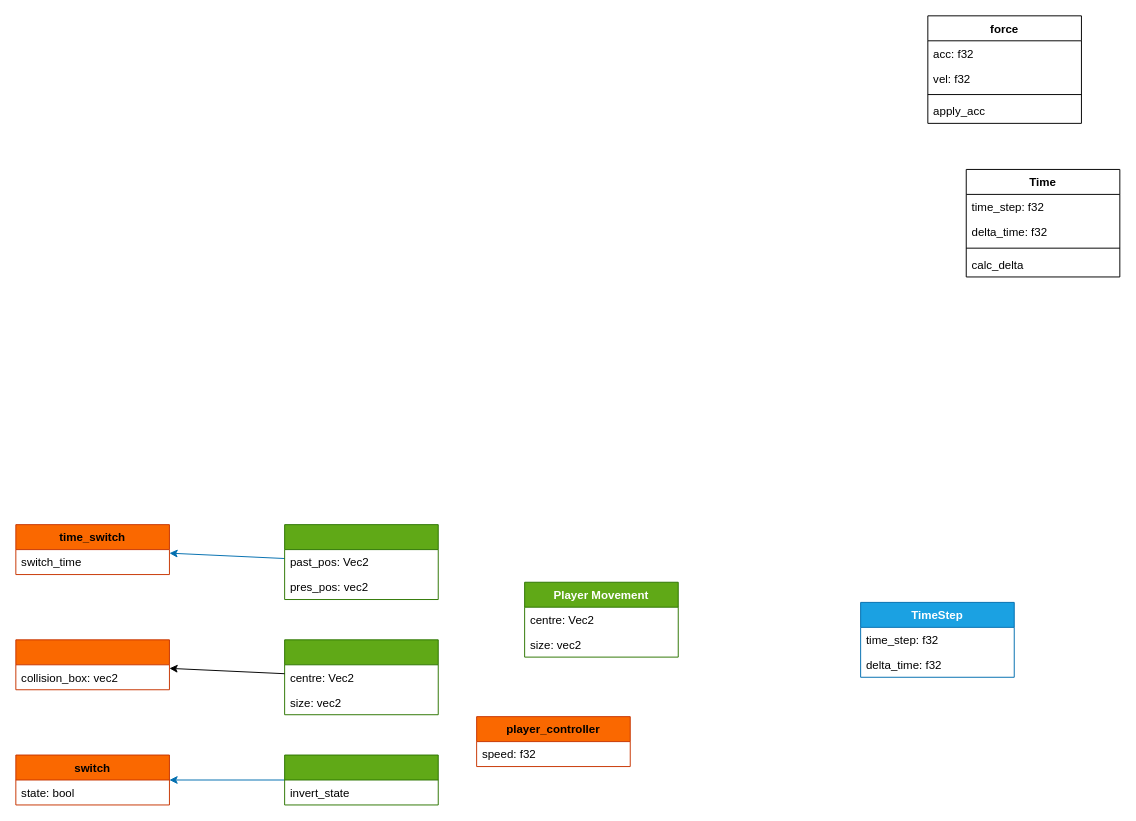
Image size: 1136x821. Some labels were removed from this diagram. Here are the shapes that lost their labels. From the top down, the box of each, then its label:
(284, 524, 438, 600): TimeEffected
(15, 639, 169, 690): Collision detection
(284, 639, 438, 715): CollisionBox
(284, 754, 438, 805): toggle_switch
